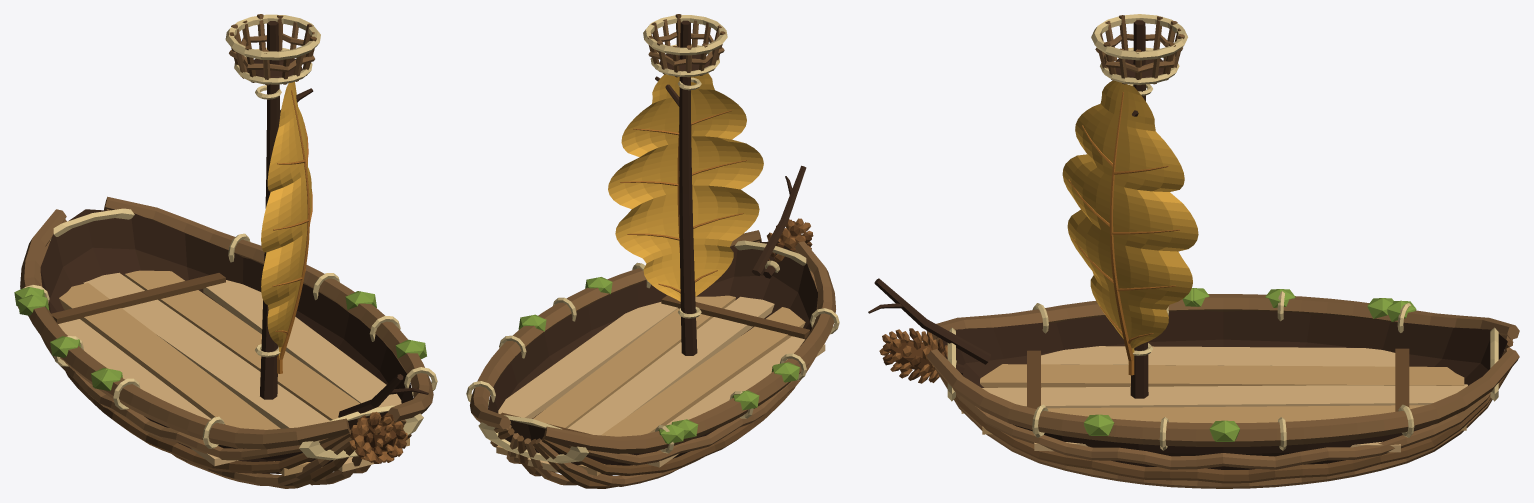
Rendered from twig_boat.glb.
3 views of the same model, side by side, from view 1: azimuth 30°, elevation 25°; view 2: azimuth 150°, elevation 25°; view 3: azimuth 270°, elevation 25° (orthographic). The views are drawn at different scales.
Parts seen in each view (by area): view 1: twig_boat; view 2: twig_boat; view 3: twig_boat.
Boxes of the visible parts, left/top/right/bottom form: twig_boat: left=14, top=14, right=437, bottom=488; twig_boat: left=466, top=14, right=839, bottom=488; twig_boat: left=868, top=14, right=1519, bottom=488.
Bounding box in the file's own units: 1.74 × 2.48 × 3.27.
